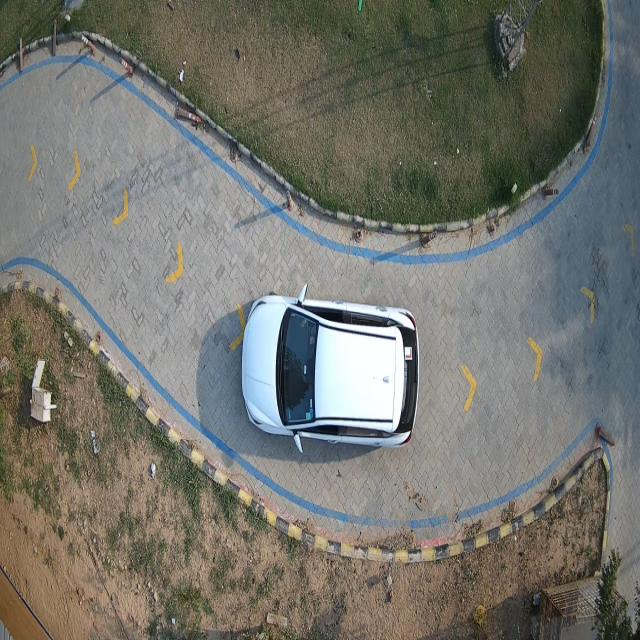car: (238, 294, 420, 448)
